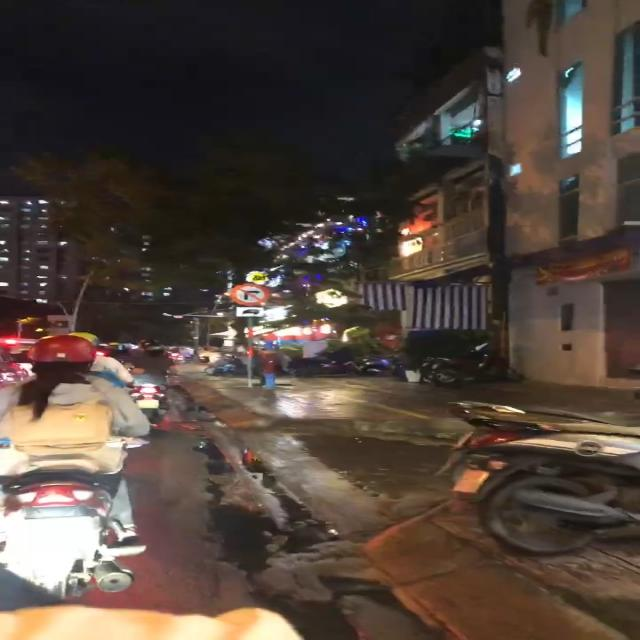Bien bao cam re phai: (223, 279, 275, 304)
